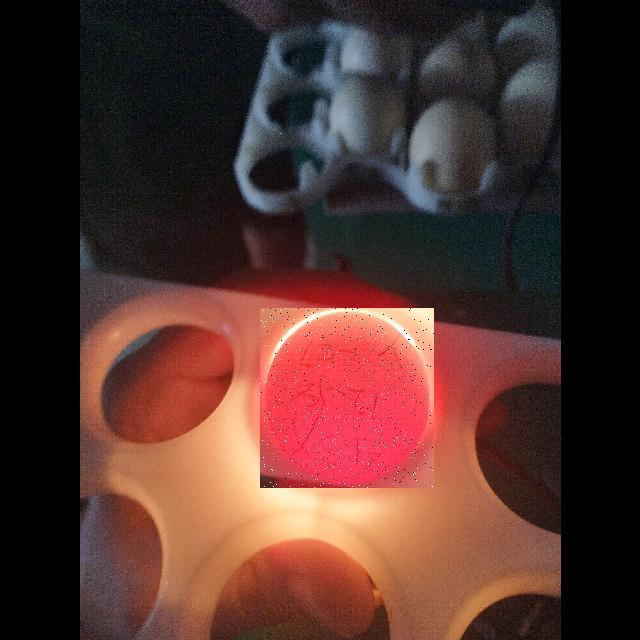Infertile: (260, 308, 434, 488)
